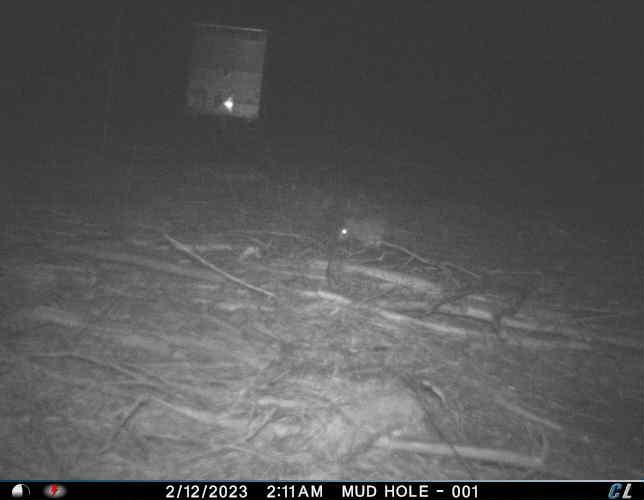Rabbit: (334, 206, 395, 258)
